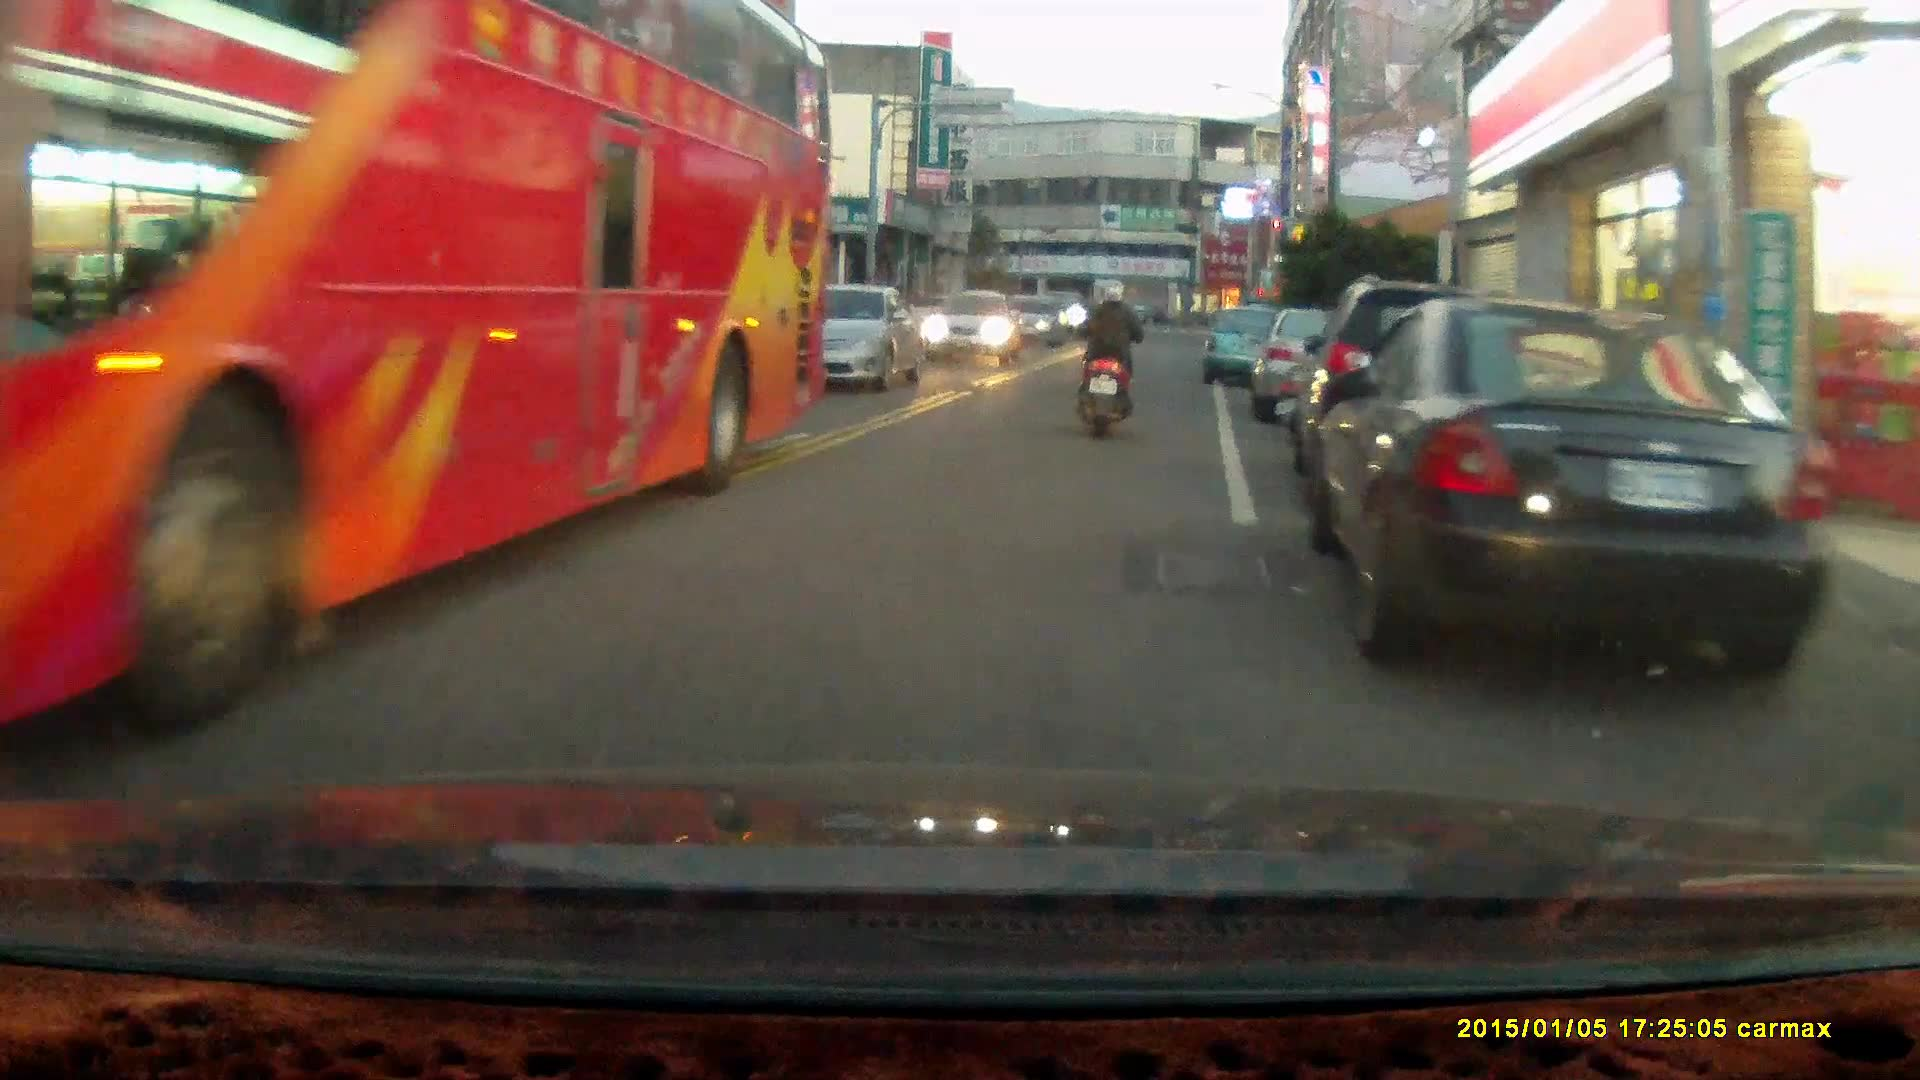rider: (1073, 278, 1145, 439)
vehicle: (1, 9, 838, 718), (1310, 301, 1860, 718), (1298, 270, 1559, 517), (1264, 304, 1450, 434), (764, 285, 921, 395), (1203, 304, 1298, 391), (924, 287, 1027, 366)
